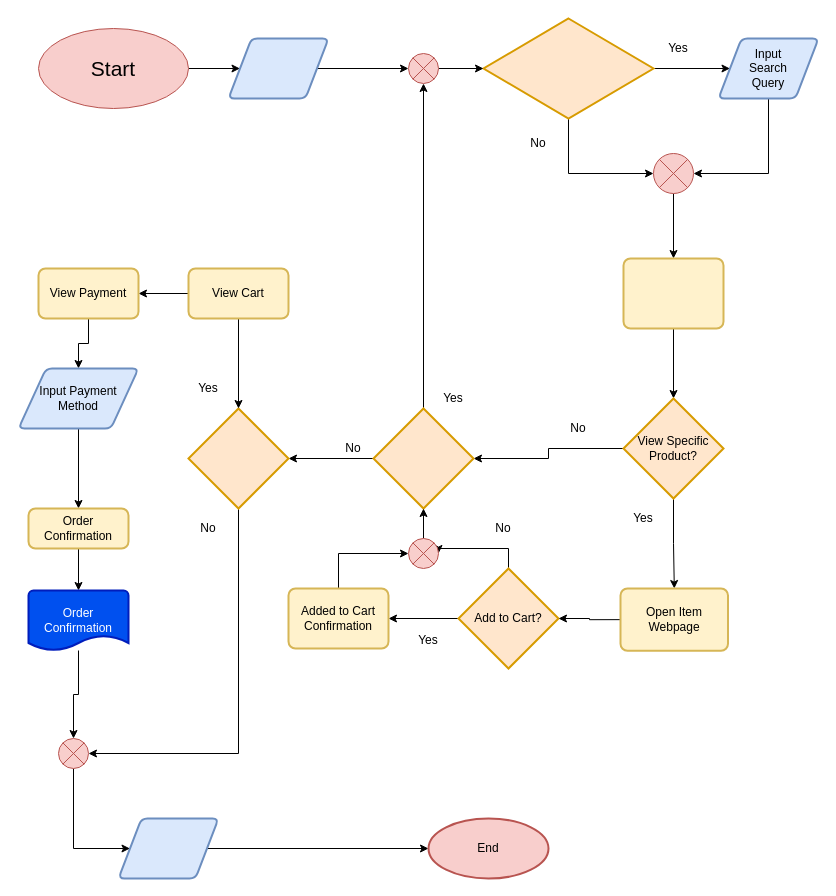
Some shapes in this 836 by 896 pixel diagram are drawn without their labels. The shapes that lost their labels are listed below. From the top down, each one's centre as x and y in pixels, then its label:
the point at 278,68: User Enters Website
the point at 568,68: Search for a product?
the point at 673,293: Begin Browsing Products
the point at 238,458: Checkout?
the point at 423,458: Continue Shopping?
the point at 168,848: User Leaves Website
